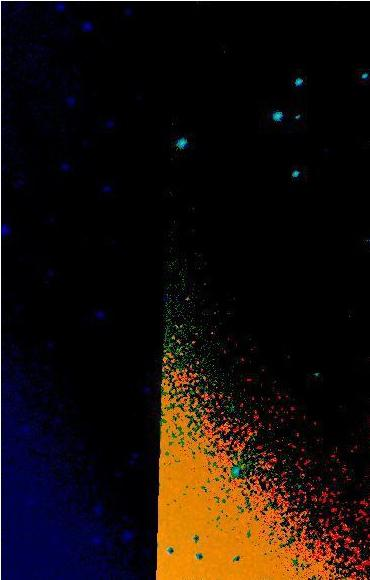star: (314, 255, 344, 285)
